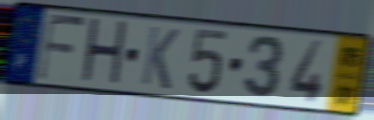3: (242, 34, 288, 101)
4: (286, 38, 325, 107)
5: (187, 27, 230, 97)
F: (34, 10, 88, 84)
H: (78, 15, 130, 90)
K: (139, 24, 182, 93)
